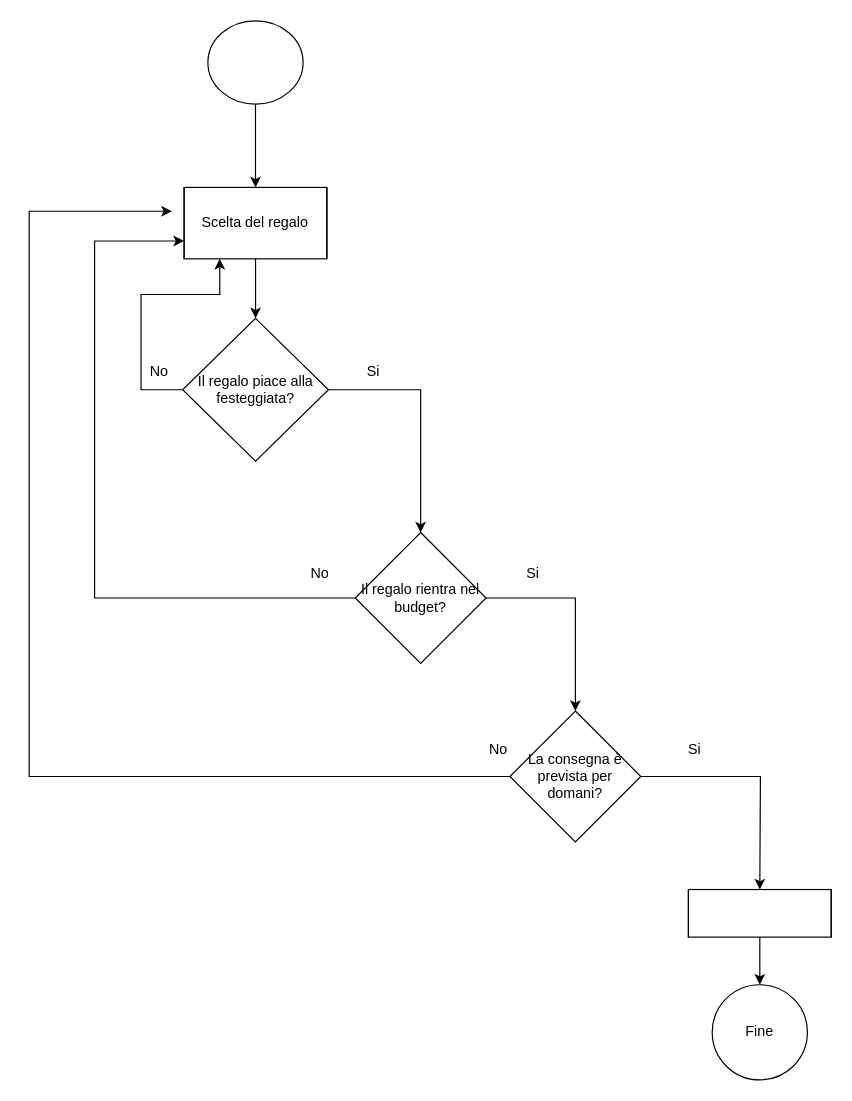
Image size: 852x1101. Some labels were removed from this diagram. Each missing label, with the centre of its shape:
"Inizio" belongs at (255,62).
"Lo compro" belongs at (759,912).
